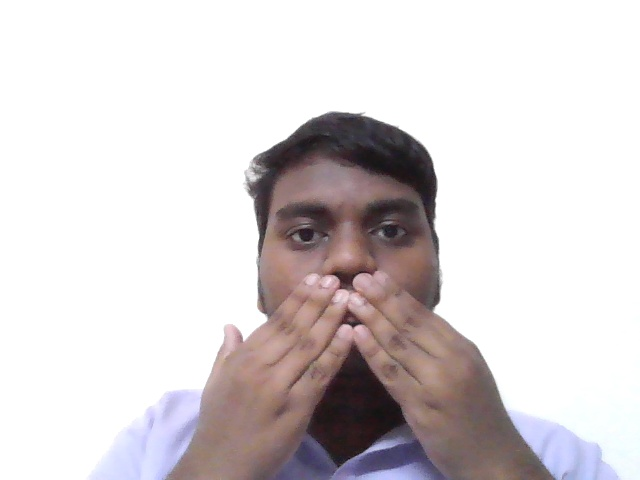Thank you: (179, 260, 522, 472)
